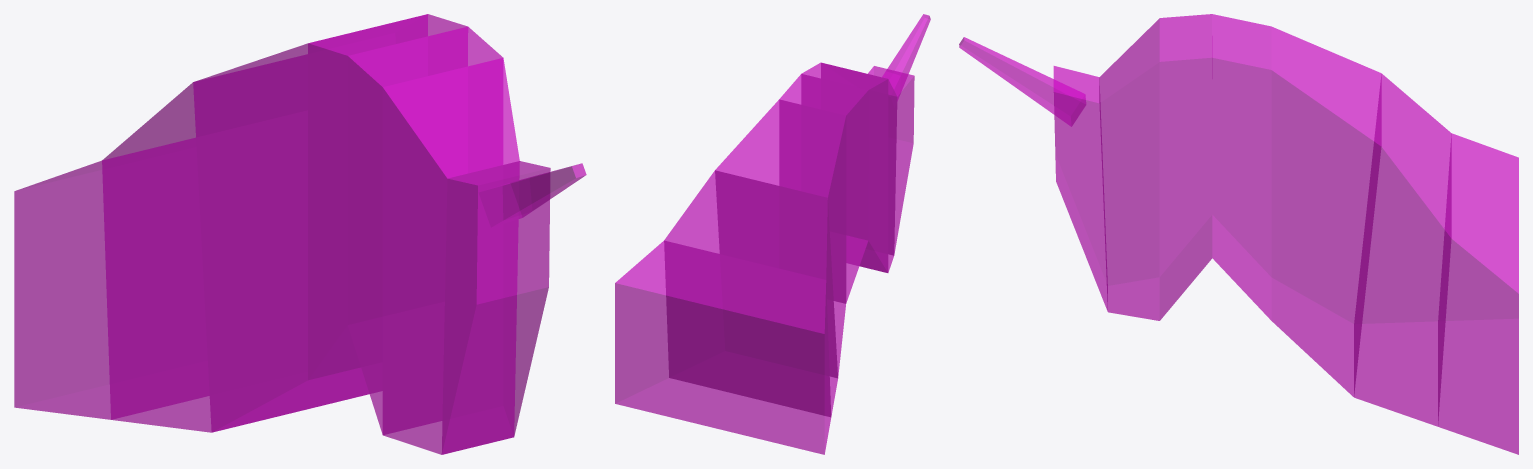
File: SM_Veh_Ship_L_Figurehead_03_Collision.fbx
3 views of the same model, side by side, from view 1: azimuth 30°, elevation 25°; view 2: azimuth 150°, elevation 25°; view 3: azimuth 270°, elevation 25° (orthographic). The views are drawn at different scales.
Parts seen in each view (by area): view 1: SM_Veh_Ship_L_Figurehead_03_Collision; view 2: SM_Veh_Ship_L_Figurehead_03_Collision; view 3: SM_Veh_Ship_L_Figurehead_03_Collision.
Part boxes in pixels (<box>): SM_Veh_Ship_L_Figurehead_03_Collision: <box>14,14,586,454</box>; SM_Veh_Ship_L_Figurehead_03_Collision: <box>615,14,930,454</box>; SM_Veh_Ship_L_Figurehead_03_Collision: <box>959,14,1518,454</box>.
Size of the model in its own units: 438 by 526 by 760.
